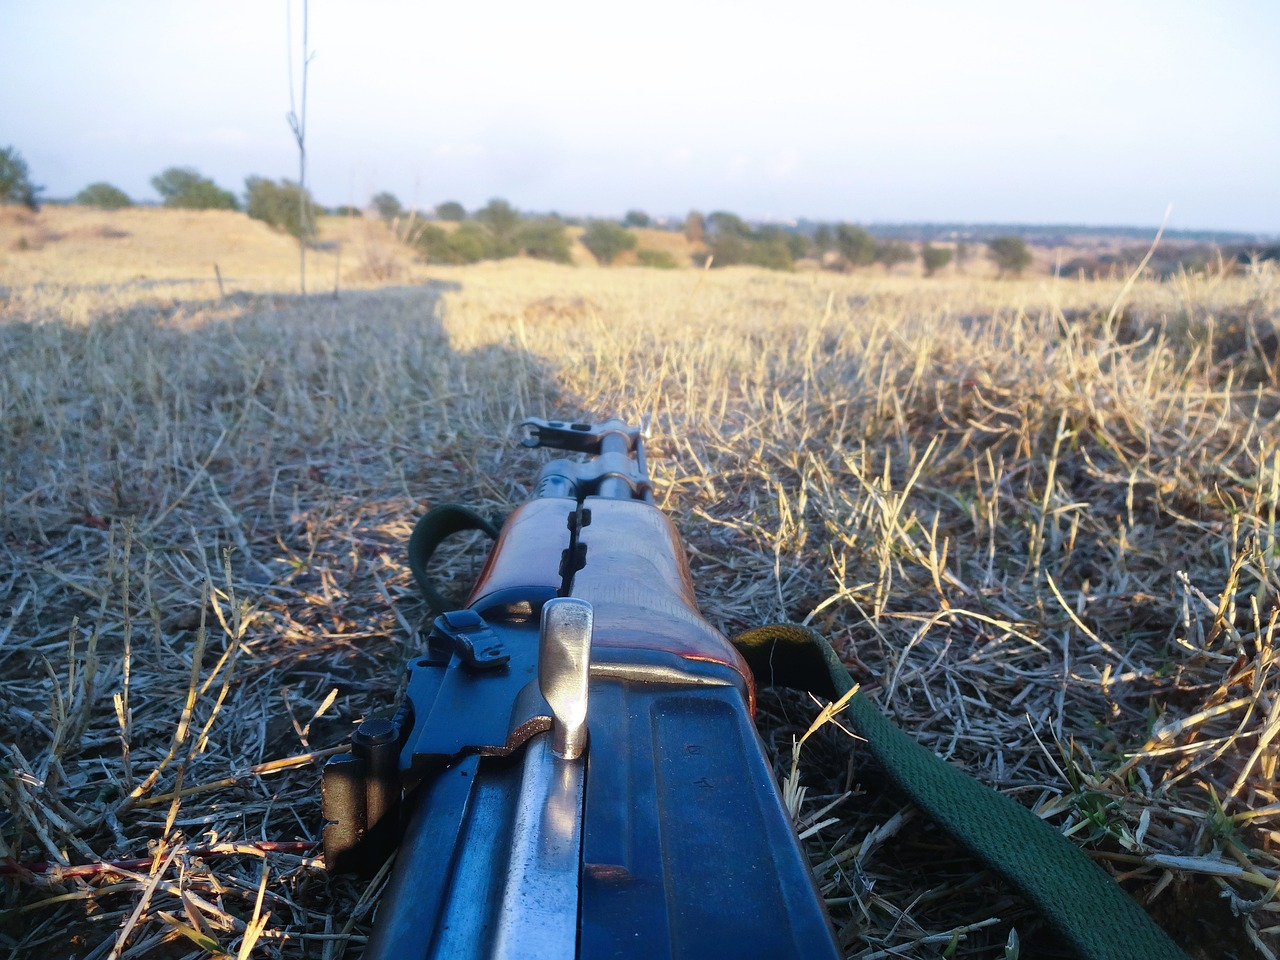gun: (313, 412, 854, 960)
